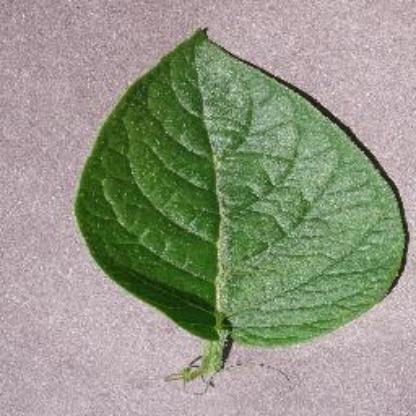Healthy-plant: (75, 26, 415, 392)
